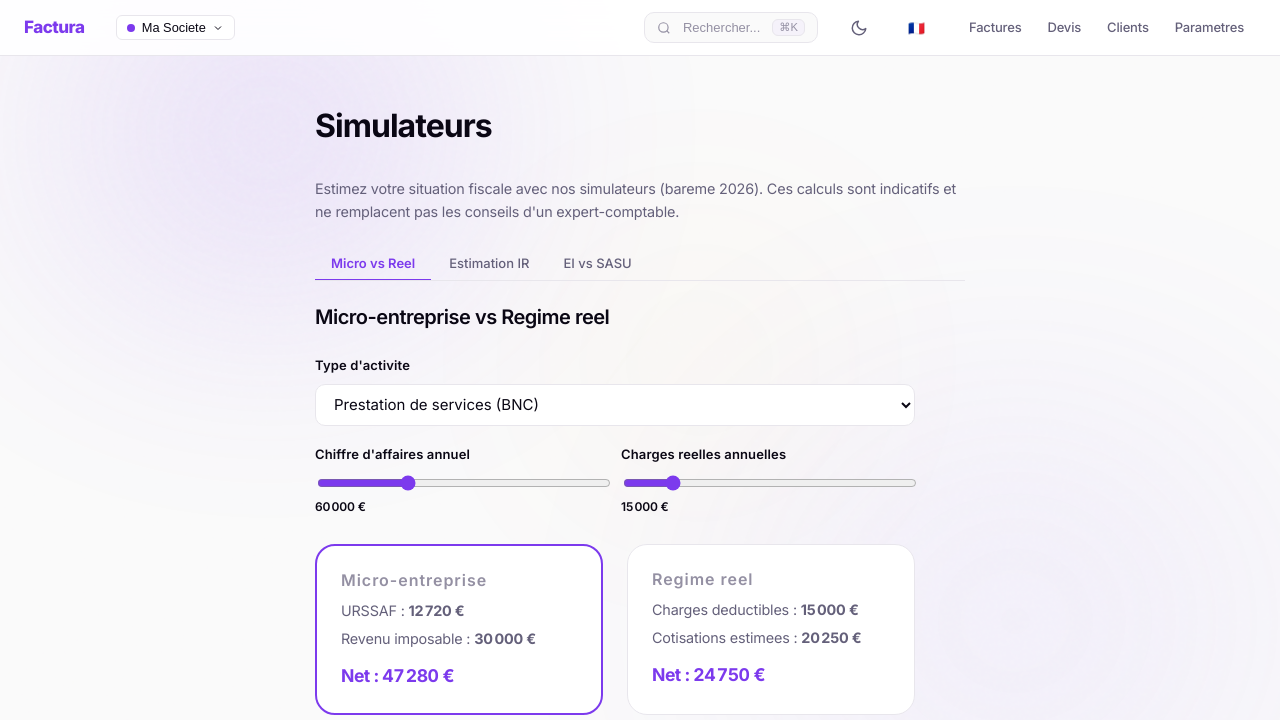
Scenario: Simulateurs › simule EI vs SASU
The width and height of the screenshot is (1280, 720).
Click the button "EI vs SASU".
click(598, 264)  # box [548, 247, 648, 281]
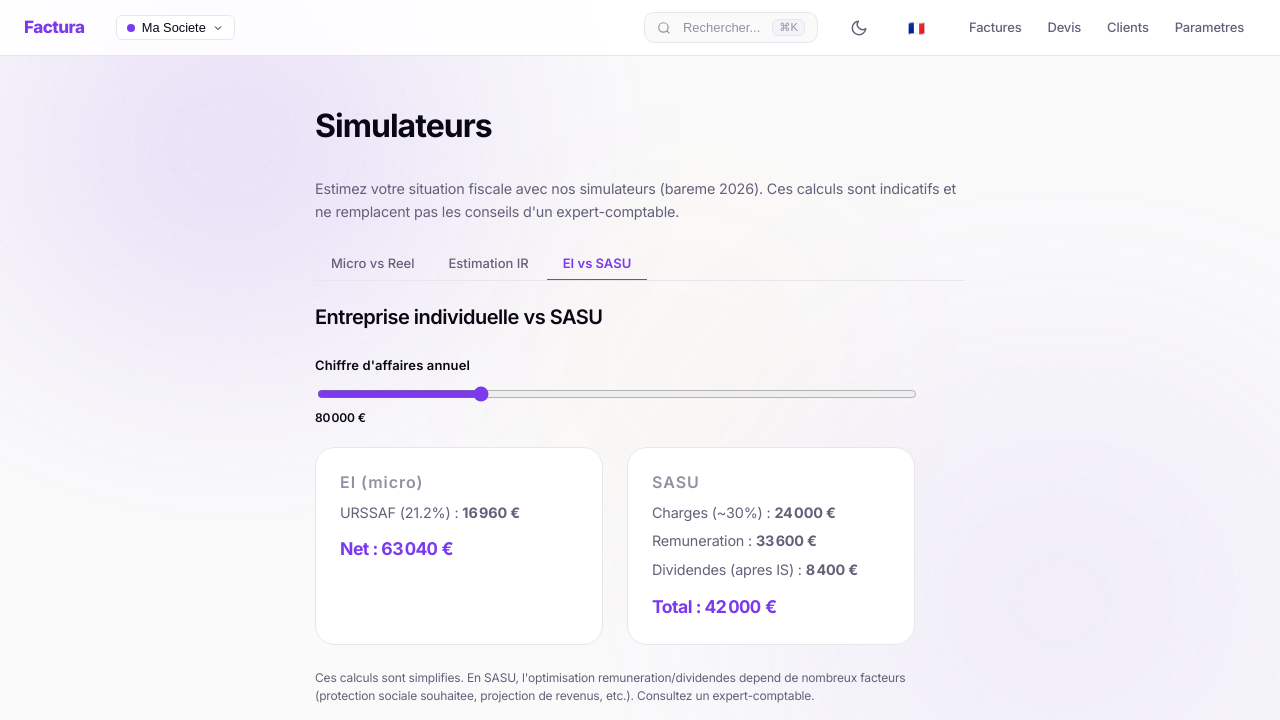
expect the heading "Entreprise individuelle vs SASU" is shown: met, box [315, 305, 603, 329]
expect the heading "EI (micro)" is shown: met, box [340, 472, 423, 492]
expect the text "Remuneration" is shown: met, box [652, 532, 756, 549]
